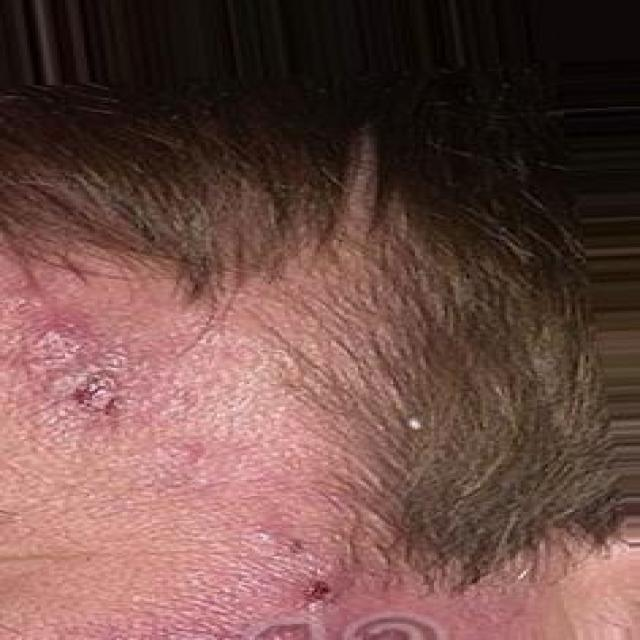Rosacea: (0, 232, 363, 640)
